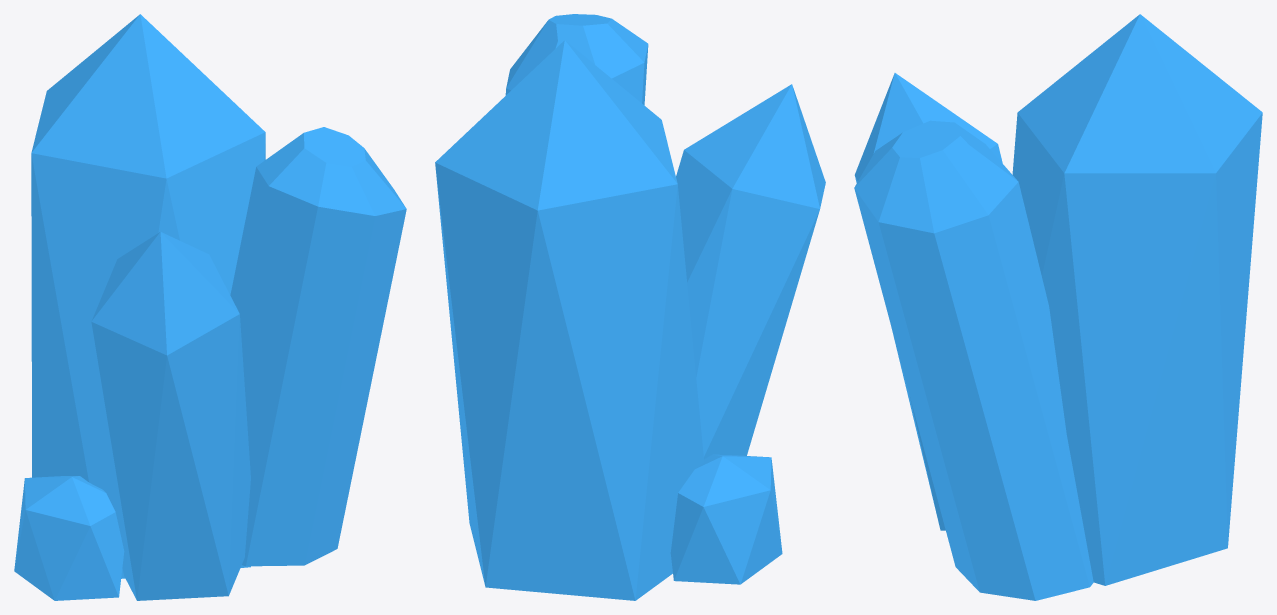
The model's file is mining_PP_Crystal_06_Blue.gltf.
3 views of the same model, side by side, from view 1: azimuth 30°, elevation 25°; view 2: azimuth 150°, elevation 25°; view 3: azimuth 270°, elevation 25° (orthographic). The views are drawn at different scales.
Parts seen in each view (by area): view 1: PP_Crystal_06_Blue; view 2: PP_Crystal_06_Blue; view 3: PP_Crystal_06_Blue.
Boxes of the visible parts, bbox=[...] form: PP_Crystal_06_Blue: bbox=[14, 14, 406, 600]; PP_Crystal_06_Blue: bbox=[435, 14, 825, 600]; PP_Crystal_06_Blue: bbox=[854, 14, 1262, 600].
Size of the model in its own units: 0.2914 by 0.4608 by 0.3246.
Materials: 1 (1 with a texture image).
